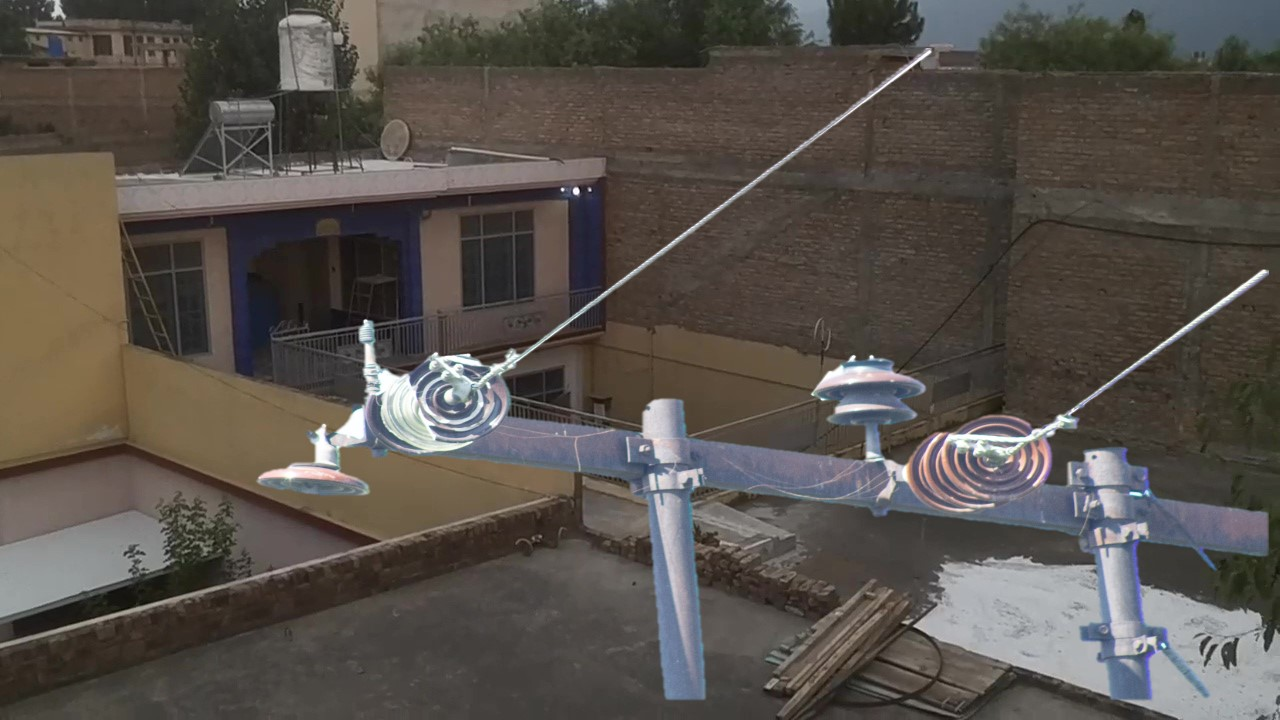defect_disc: (408, 349, 516, 444)
insulator_disc: (940, 404, 1056, 504), (253, 446, 378, 510)
